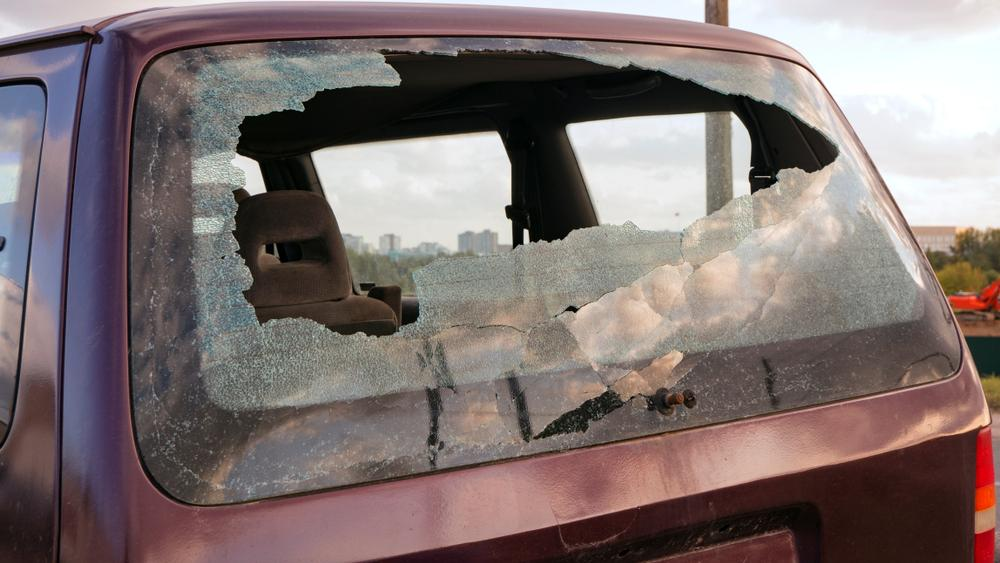glass shatter: (129, 36, 964, 508)
